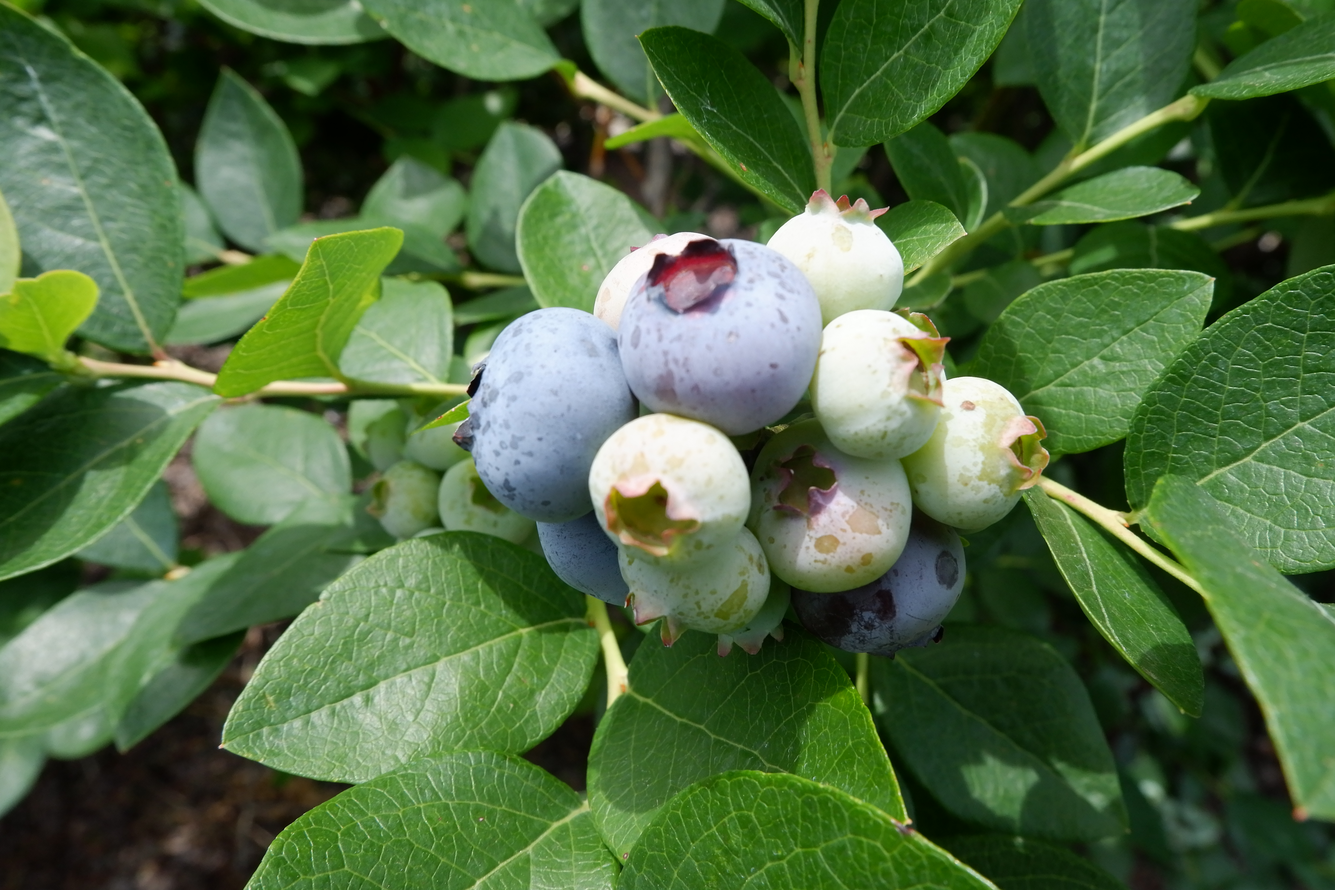Immature: (755, 426, 909, 590), (591, 416, 749, 558), (907, 381, 1045, 528), (813, 312, 944, 458), (621, 530, 769, 640), (771, 192, 901, 317), (440, 462, 529, 545), (367, 462, 440, 537), (717, 579, 790, 653)
Mature: (463, 306, 637, 521), (621, 245, 817, 432), (796, 513, 962, 654), (595, 231, 715, 331), (537, 511, 626, 603)
